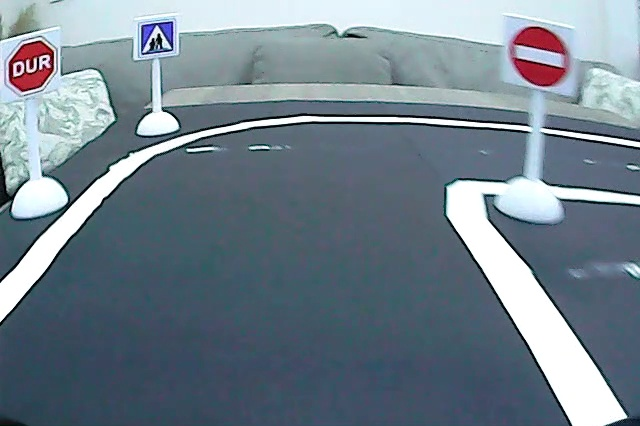do not enter: (505, 22, 572, 91)
school crossing: (137, 17, 176, 59)
stop sign: (1, 35, 59, 99)
